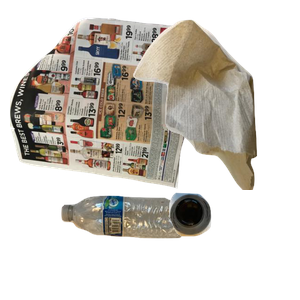glass: (166, 190, 300, 300)
paper: (10, 15, 196, 195)
plastic: (59, 193, 241, 300)
trash: (131, 17, 300, 197)
